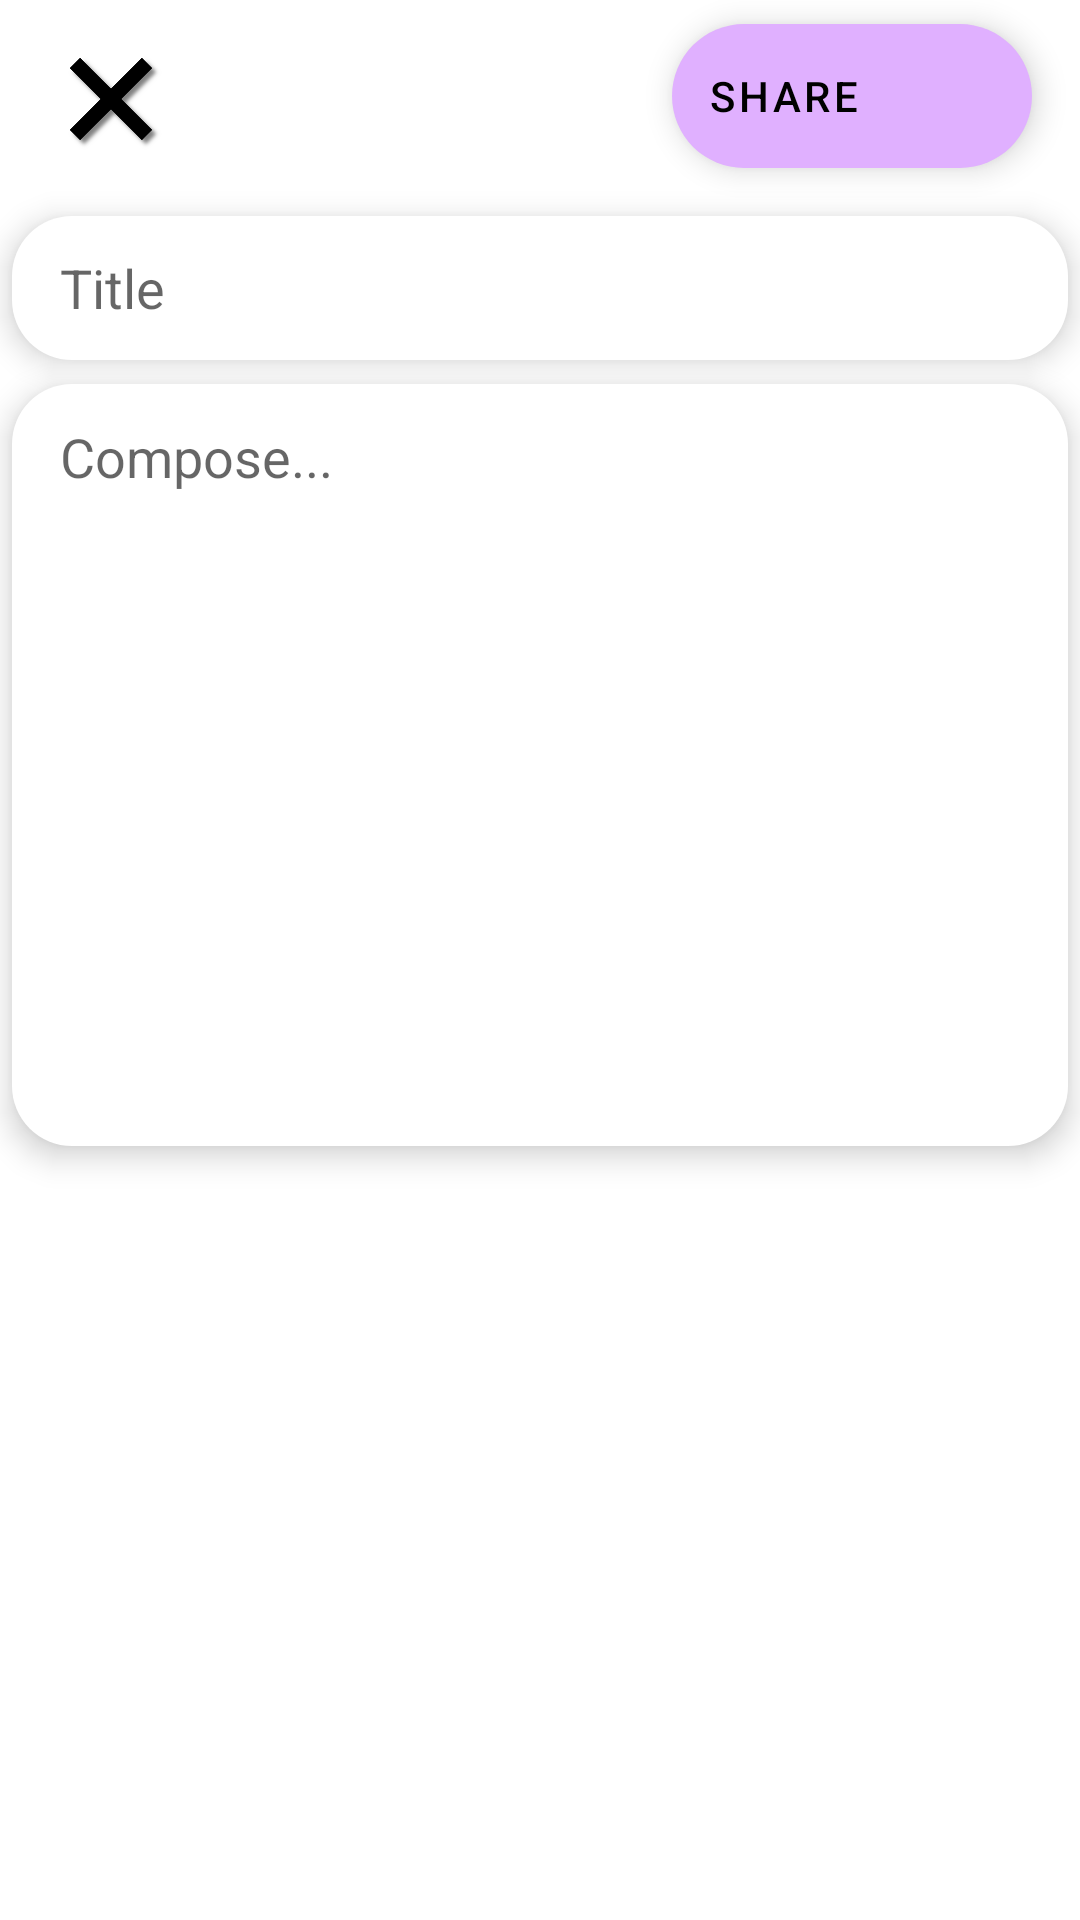

Named icons in this screenshot (1080 x 1920) and their centers, point (x, y):
close: point (113, 101)
